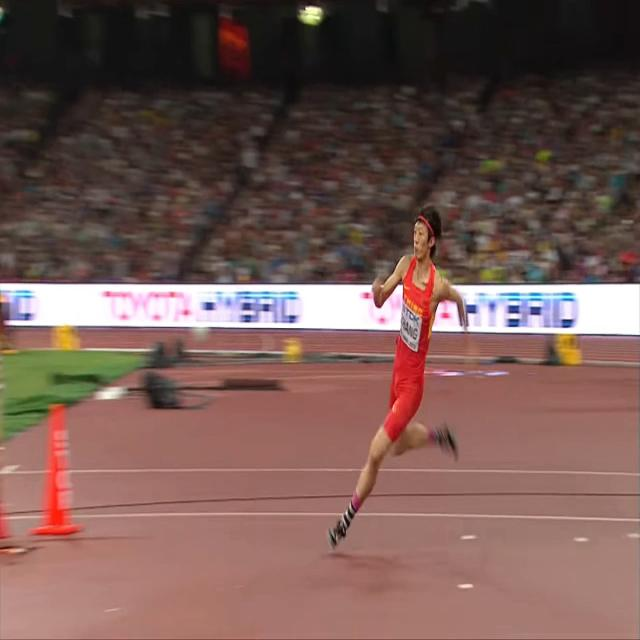run: (327, 199, 465, 549)
